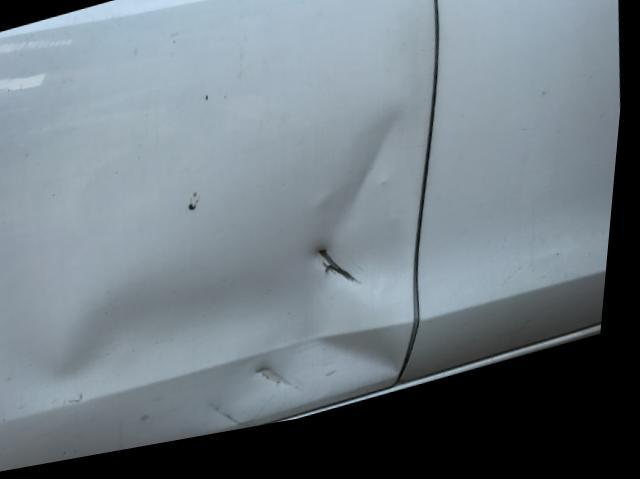dent: (0, 123, 423, 439)
